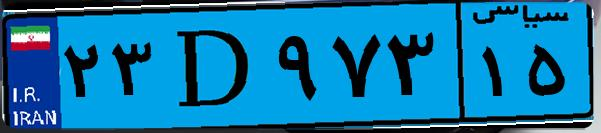1: (475, 38, 525, 113)
2: (57, 26, 110, 100)
3: (385, 28, 445, 110), (110, 28, 158, 98)
5: (525, 38, 570, 115)
7: (330, 28, 385, 110)
9: (270, 28, 330, 110)
D: (158, 12, 270, 120)
